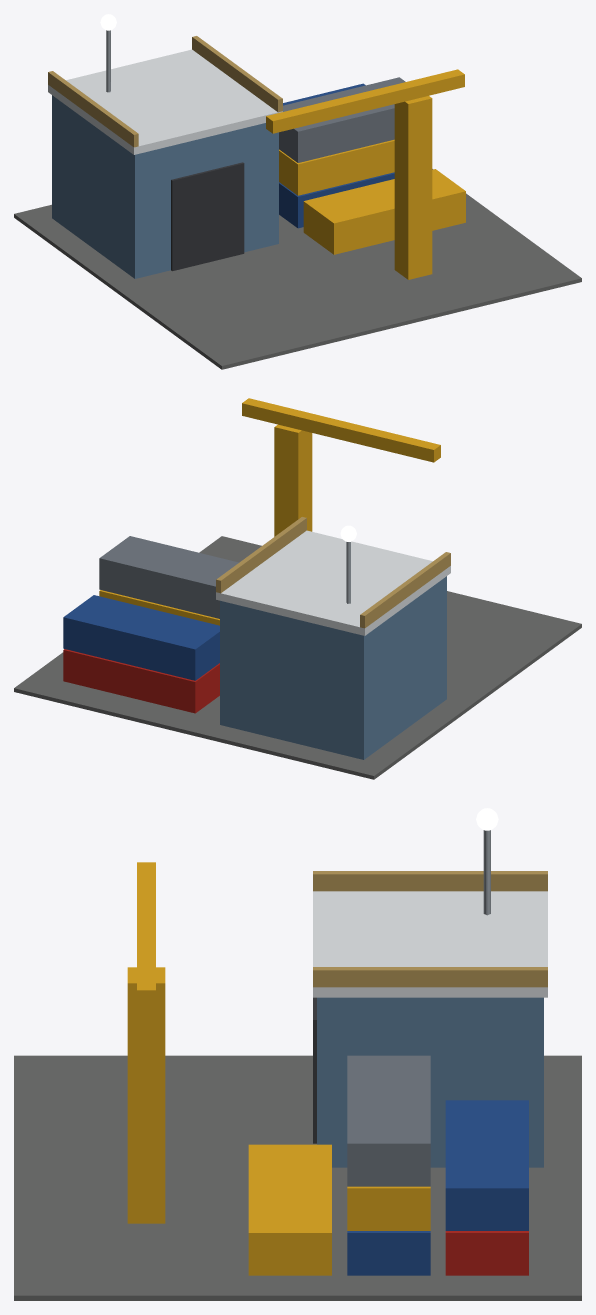
File: bld_special_logistics_depot_a10.glb
3 renders of one model, top to bottom at view 1: azimuth 30°, elevation 25°; view 2: azimuth 150°, elevation 25°; view 3: azimuth 270°, elevation 25°, orthographic. The views are drawn at different scales.
Parts seen in each view (by area): view 1: body, crane; view 2: body, crane; view 3: body, crane.
Part boxes in pixels (<box>): body: <box>14,14,581,369</box>; crane: <box>266,69,464,279</box>; body: <box>14,517,581,779</box>; crane: <box>242,398,440,536</box>; body: <box>14,808,581,1300</box>; crane: <box>127,862,165,1223</box>.
Size of what is drawn, in the model's own units: 15 by 8.5 by 15.
